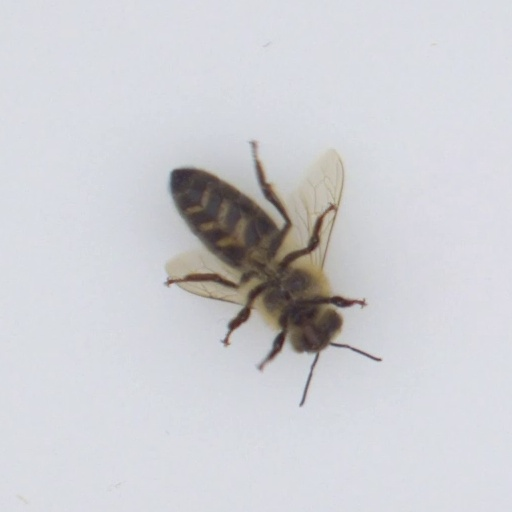Bee: (157, 145, 363, 375)
